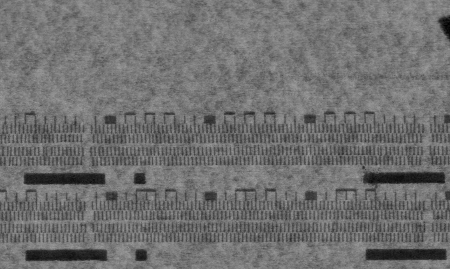Oblique printing: (372, 145, 385, 156)
